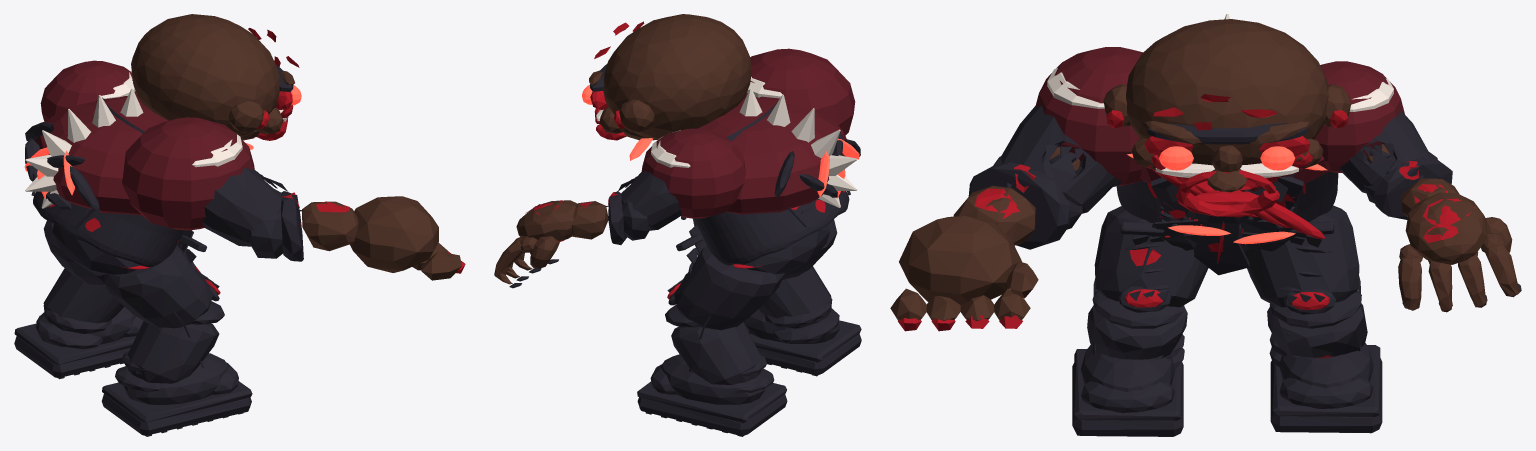
The picture shows the model from 3 angles, left to right: view 1: azimuth 30°, elevation 25°; view 2: azimuth 150°, elevation 25°; view 3: azimuth 270°, elevation 25°; orthographic projection. The views are drawn at different scales.
Visible parts, largest first — view 1: torso__mega, head__mega, footR__mega, handR__mega, legR__mega, shinR__mega, foreArmR__mega, shinL__mega, footL__mega, armR__mega, hip__mega, legL__mega; view 2: torso__mega, head__mega, footL__mega, legL__mega, shinL__mega, shinR__mega, footR__mega, handL__mega, foreArmL__mega, armL__mega, hip__mega, legR__mega; view 3: head__mega, torso__mega, handR__mega, handL__mega, footR__mega, footL__mega, legL__mega, legR__mega, foreArmR__mega, armR__mega, shinR__mega, shinL__mega (+2 smaller).
Part boxes in pixels (left/top/right/bottom): torso__mega: left=24, top=60, right=254, bottom=266; head__mega: left=131, top=14, right=301, bottom=140; footR__mega: left=101, top=353, right=252, bottom=436; handR__mega: left=349, top=196, right=465, bottom=280; legR__mega: left=101, top=245, right=220, bottom=368; shinR__mega: left=115, top=301, right=224, bottom=391; foreArmR__mega: left=248, top=191, right=358, bottom=261; shinL__mega: left=36, top=268, right=124, bottom=348; footL__mega: left=14, top=307, right=143, bottom=379; armR__mega: left=202, top=167, right=287, bottom=246; hip__mega: left=52, top=224, right=141, bottom=275; legL__mega: left=43, top=220, right=104, bottom=285; torso__mega: left=629, top=48, right=860, bottom=265; head__mega: left=582, top=14, right=751, bottom=140; footL__mega: left=637, top=354, right=787, bottom=436; legL__mega: left=667, top=246, right=784, bottom=371; shinL__mega: left=665, top=305, right=774, bottom=393; shinR__mega: left=759, top=266, right=839, bottom=343; footR__mega: left=744, top=308, right=861, bottom=376; handL__mega: left=494, top=200, right=577, bottom=288; foreArmL__mega: left=571, top=191, right=650, bottom=244; armL__mega: left=618, top=171, right=681, bottom=230; hip__mega: left=741, top=224, right=830, bottom=274; legR__mega: left=782, top=219, right=837, bottom=279; head__mega: left=1103, top=19, right=1350, bottom=217; torso__mega: left=1035, top=14, right=1404, bottom=275; handR__mega: left=890, top=215, right=1038, bottom=331; handL__mega: left=1398, top=192, right=1521, bottom=312; footR__mega: left=1072, top=345, right=1183, bottom=436; footL__mega: left=1270, top=343, right=1382, bottom=433; legL__mega: left=1244, top=205, right=1361, bottom=351; legR__mega: left=1093, top=206, right=1208, bottom=354; foreArmR__mega: left=953, top=156, right=1082, bottom=249; armR__mega: left=1001, top=105, right=1121, bottom=213; shinR__mega: left=1087, top=290, right=1187, bottom=369; shinL__mega: left=1267, top=290, right=1367, bottom=367.
Bounding box in the file's own units: 2.18 × 2.29 × 3.15.
